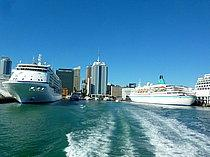Ship: (2, 53, 67, 109), (124, 74, 201, 114)
